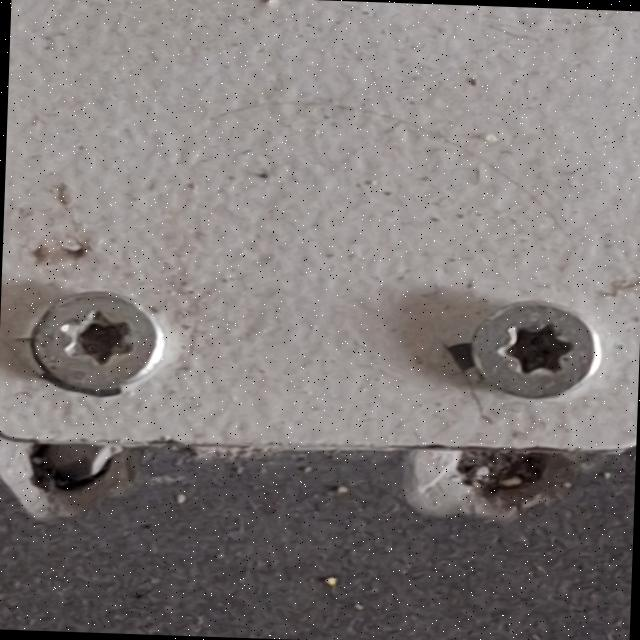Torx: (466, 302, 602, 409), (30, 289, 160, 392)
